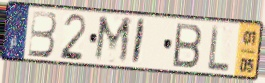2: (59, 12, 88, 63)
B: (171, 21, 204, 70), (27, 10, 58, 60)
I: (130, 17, 148, 67)
L: (207, 23, 231, 72)
M: (92, 13, 134, 66)
